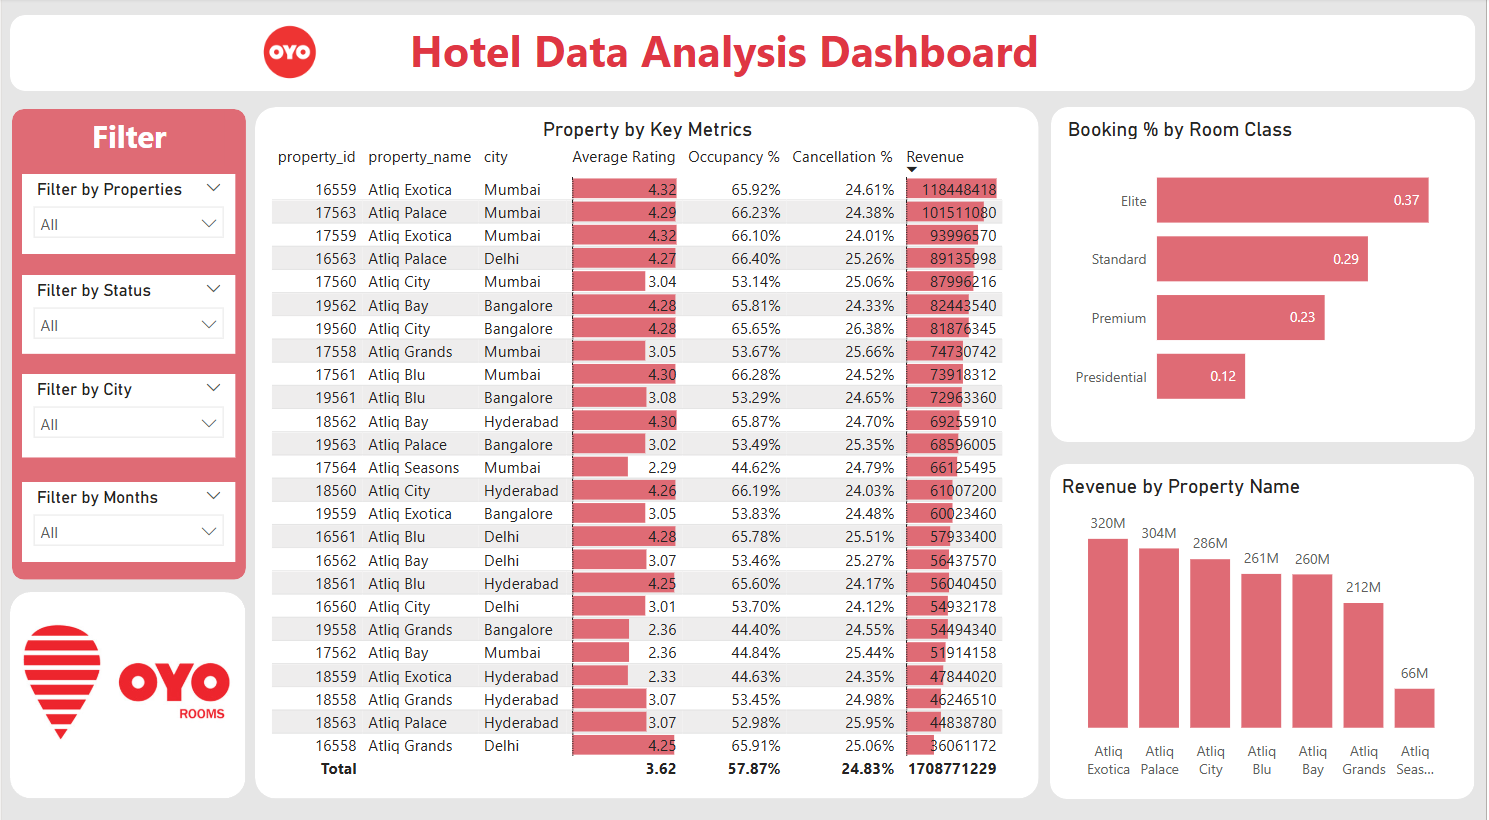

The dashboard page shown, as its layout file describes it:
{"tool":"powerbi","page":{"name":"Home page","canvas":[1920,1080],"ordinal":2},"visuals":[{"type":"shape","box":[1258.4,200,637.5,257.5],"z":0},{"type":"shape","box":[798.4,200,440,257.5],"z":1000},{"type":"shape","box":[798,473.5,1097.3,524],"z":2000},{"type":"shape","box":[13.3,748.8,754.1,248.7],"z":3000},{"type":"shape","box":[13.5,200.9,753.8,527],"z":4000},{"type":"shape","box":[797.5,90.9,1097.3,97.2],"z":5000},{"type":"shape","box":[13.4,90.9,753.8,97.2],"z":6000},{"type":"card","title":"Revenue","fields":{"Values":["key_measure.Revenue"]},"box":[36.5,212.8,164.2,105.8],"z":7000},{"type":"tableEx","title":"Property by Key Metrics","fields":{"Values":["dim_hotels.property_id","dim_hotels.property_name","dim_hotels.city","key_measure.Revenue","key_measure.Total Bookings","key_measure.RevPAR","key_measure.Occupancy %","key_measure.ADR","key_measure.DSRN","key_measure.DBRN","key_measure.DURN","key_measure.Realisation %"]},"box":[806.1,488.4,1077.8,496.8],"z":8000},{"type":"slicer","fields":{"Values":["dim_hotels.city"]},"box":[26.4,101.7,241.9,79.9],"z":9000},{"type":"slicer","fields":{"Values":["dim_rooms.room_class"]},"box":[270.4,101.7,244.1,79.9],"z":10000},{"type":"slicer","fields":{"Values":["dim_date.mmm yy"]},"box":[805.8,98.9,295,80],"z":11000},{"type":"slicer","fields":{"Values":["dim_date.week no"]},"box":[1100.8,98.9,785,80],"z":12000},{"type":"tableEx","fields":{"Values":["key_measure.Revenue WoW change %"]},"box":[64.8,316.8,90,60.3],"z":13000},{"type":"donutChart","fields":{"Category":["dim_hotels.category"],"Y":["key_measure.Revenue"]},"box":[810.9,210,412.5,235],"z":14000},{"type":"lineChart","title":"Trend By Key Matrix","fields":{"Y":["key_measure.RevPAR","key_measure.ADR","key_measure.Occupancy %"],"Category":["dim_date.mmm yy.Variation.Date Hierarchy.Month","dim_date.week no"]},"box":[1270.9,215,610,225],"z":15000},{"type":"card","title":"RevPAR","fields":{"Values":["key_measure.RevPAR"]},"box":[288.6,212.8,155.5,103.7],"z":16000},{"type":"card","title":"DSRN","fields":{"Values":["key_measure.DSRN"]},"box":[555.8,212.8,164.2,105.8],"z":17000},{"type":"card","title":"Occupancy %","fields":{"Values":["key_measure.Occupancy %"]},"box":[38.3,408.1,165,117.5],"z":18000},{"type":"card","title":"ADR","fields":{"Values":["key_measure.ADR"]},"box":[288.8,408.1,155,117.5],"z":19000},{"type":"card","title":"Realisation %","fields":{"Values":["key_measure.Realisation %"]},"box":[556.8,408.1,165,115],"z":20000},{"type":"lineStackedColumnComboChart","fields":{"Category":["fact_bookings.booking_platform"],"Y":["key_measure.Realisation %"],"Y2":["key_measure.ADR"]},"box":[26.2,760,727.5,227.5],"z":21000},{"type":"tableEx","fields":{"Values":["dim_date.day_type","key_measure.RevPAR","key_measure.Occupancy %","key_measure.ADR","key_measure.Realisation %"]},"box":[117.5,601.2,533.8,121.2],"z":22000},{"type":"slicer","fields":{"Values":["fact_bookings.booking_platform"]},"box":[512.4,101.7,244.1,79.9],"z":23000},{"type":"tableEx","fields":{"Values":["key_measure.Revenue WoW change %"]},"box":[307.1,314.3,90.4,60.3],"z":24000},{"type":"tableEx","fields":{"Values":["key_measure.Revenue WoW change %"]},"box":[582.2,314.3,90.4,60.3],"z":25000},{"type":"shape","box":[13.8,1009.7,1883.7,61.5],"z":26000},{"type":"tableEx","fields":{"Values":["key_measure.Revenue WoW change %"]},"box":[71.2,503.8,90,60],"z":27000},{"type":"tableEx","fields":{"Values":["key_measure.Revenue WoW change %"]},"box":[316.2,505,90,60],"z":28000},{"type":"tableEx","fields":{"Values":["key_measure.Revenue WoW change %"]},"box":[583.8,507.5,90,60],"z":29000},{"type":"shape","title":"Hotel Data Analysis","box":[12,8,1886,66.5],"z":30000},{"type":"textbox","box":[557.3,10.6,689,59.9],"z":31000},{"type":"textbox","box":[315.7,1020.8,1233,38.8],"z":32000},{"type":"textbox","box":[195,568.8,378.8,33.8],"z":33000},{"type":"image","box":[38.9,1009.7,178.3,59],"z":34000},{"type":"image","box":[527.5,10,60,63.8],"z":35000}]}

Visuals, with their boxes in screenshot pixels (x1, y1, x2, y2), scaled from the page's 1920x1080 canvas onto the 1489x820 screenshot:
shape: region(976, 152, 1470, 347)
shape: region(619, 152, 960, 347)
shape: region(619, 360, 1470, 757)
shape: region(10, 569, 595, 757)
shape: region(10, 153, 595, 553)
shape: region(618, 69, 1469, 143)
shape: region(10, 69, 595, 143)
"Revenue" card: region(28, 162, 156, 242)
"Property by Key Metrics" tableEx: region(625, 371, 1461, 748)
slicer - dim_hotels.city: region(20, 77, 208, 138)
slicer - dim_rooms.room_class: region(210, 77, 399, 138)
slicer - dim_date.mmm yy: region(625, 75, 854, 136)
slicer - dim_date.week no: region(854, 75, 1462, 136)
tableEx - key_measure.Revenue WoW change %: region(50, 241, 120, 286)
donutChart - dim_hotels.category x key_measure.Revenue: region(629, 159, 949, 338)
"Trend By Key Matrix" lineChart: region(986, 163, 1459, 334)
"RevPAR" card: region(224, 162, 344, 240)
"DSRN" card: region(431, 162, 558, 242)
"Occupancy %" card: region(30, 310, 158, 399)
"ADR" card: region(224, 310, 344, 399)
"Realisation %" card: region(432, 310, 560, 397)
lineStackedColumnComboChart - fact_bookings.booking_platform x key_measure.Realisation %: region(20, 577, 585, 750)
tableEx - dim_date.day_type x key_measure.RevPAR: region(91, 456, 505, 548)
slicer - fact_bookings.booking_platform: region(397, 77, 587, 138)
tableEx - key_measure.Revenue WoW change %: region(238, 239, 308, 284)
tableEx - key_measure.Revenue WoW change %: region(452, 239, 522, 284)
shape: region(11, 767, 1472, 813)
tableEx - key_measure.Revenue WoW change %: region(55, 383, 125, 428)
tableEx - key_measure.Revenue WoW change %: region(245, 383, 315, 429)
tableEx - key_measure.Revenue WoW change %: region(453, 385, 523, 431)
"Hotel Data Analysis" shape: region(9, 6, 1472, 57)
textbox: region(432, 8, 967, 54)
textbox: region(245, 775, 1201, 805)
textbox: region(151, 432, 445, 458)
image: region(30, 767, 168, 811)
image: region(409, 8, 456, 56)
